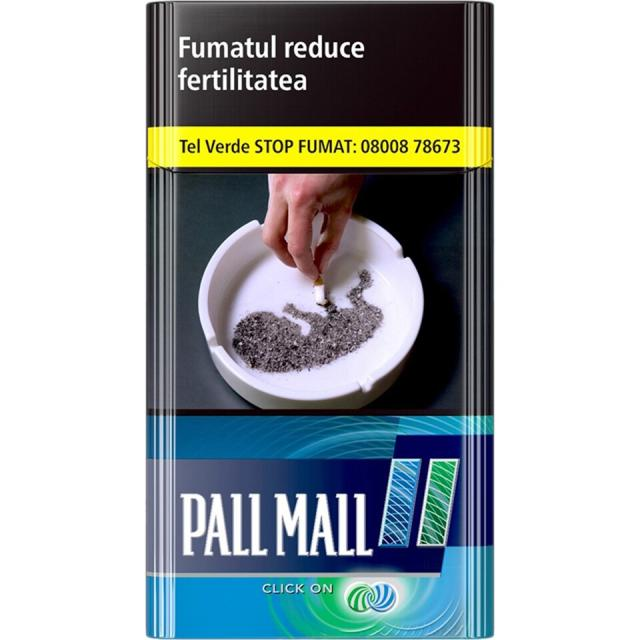pallmall: (149, 0, 497, 640)
